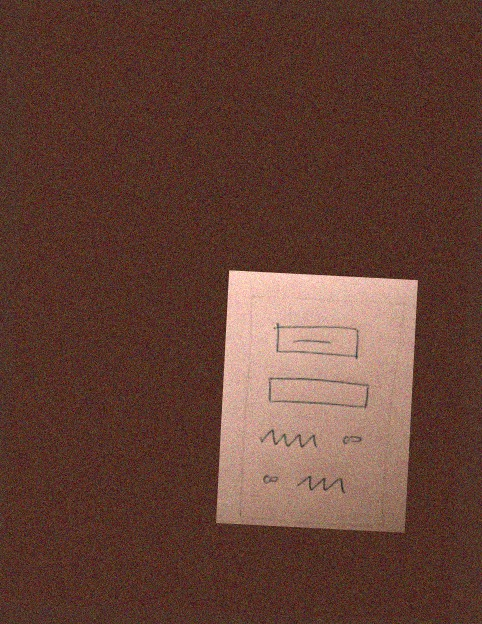button: (268, 319, 368, 362)
switch: (258, 470, 286, 490), (339, 430, 367, 449)
text: (256, 425, 323, 454), (294, 469, 352, 496)
text_input: (258, 373, 376, 419)
